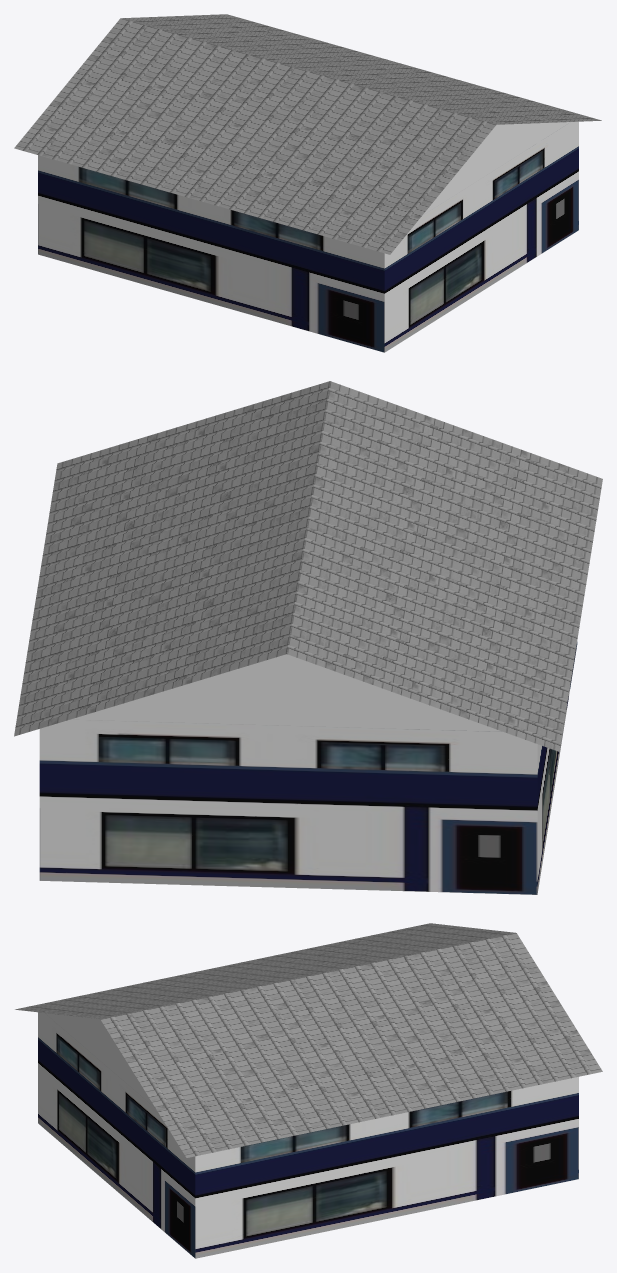
3 renders of one model, top to bottom at view 1: azimuth 30°, elevation 25°; view 2: azimuth 150°, elevation 25°; view 3: azimuth 270°, elevation 25°, orthographic. The views are drawn at different scales.
Visible parts, largest first — view 1: CityEngineMaterial_4_m, CityEngineMaterial_2_m, CityEngineMaterial_3_m; view 2: CityEngineMaterial_4_m, CityEngineMaterial_2_m, CityEngineMaterial_3_m; view 3: CityEngineMaterial_4_m, CityEngineMaterial_2_m, CityEngineMaterial_3_m.
Part boxes in pixels (x1,y1,x2,y2): CityEngineMaterial_4_m: [14, 14, 601, 254]; CityEngineMaterial_2_m: [38, 121, 578, 352]; CityEngineMaterial_3_m: [422, 122, 570, 215]; CityEngineMaterial_4_m: [14, 381, 602, 751]; CityEngineMaterial_2_m: [39, 642, 577, 894]; CityEngineMaterial_3_m: [71, 654, 502, 731]; CityEngineMaterial_4_m: [15, 923, 602, 1157]; CityEngineMaterial_2_m: [38, 1012, 578, 1258]; CityEngineMaterial_3_m: [45, 1013, 154, 1107].
Bounding box in the file's own units: 30.58 × 10.62 × 32.39.
